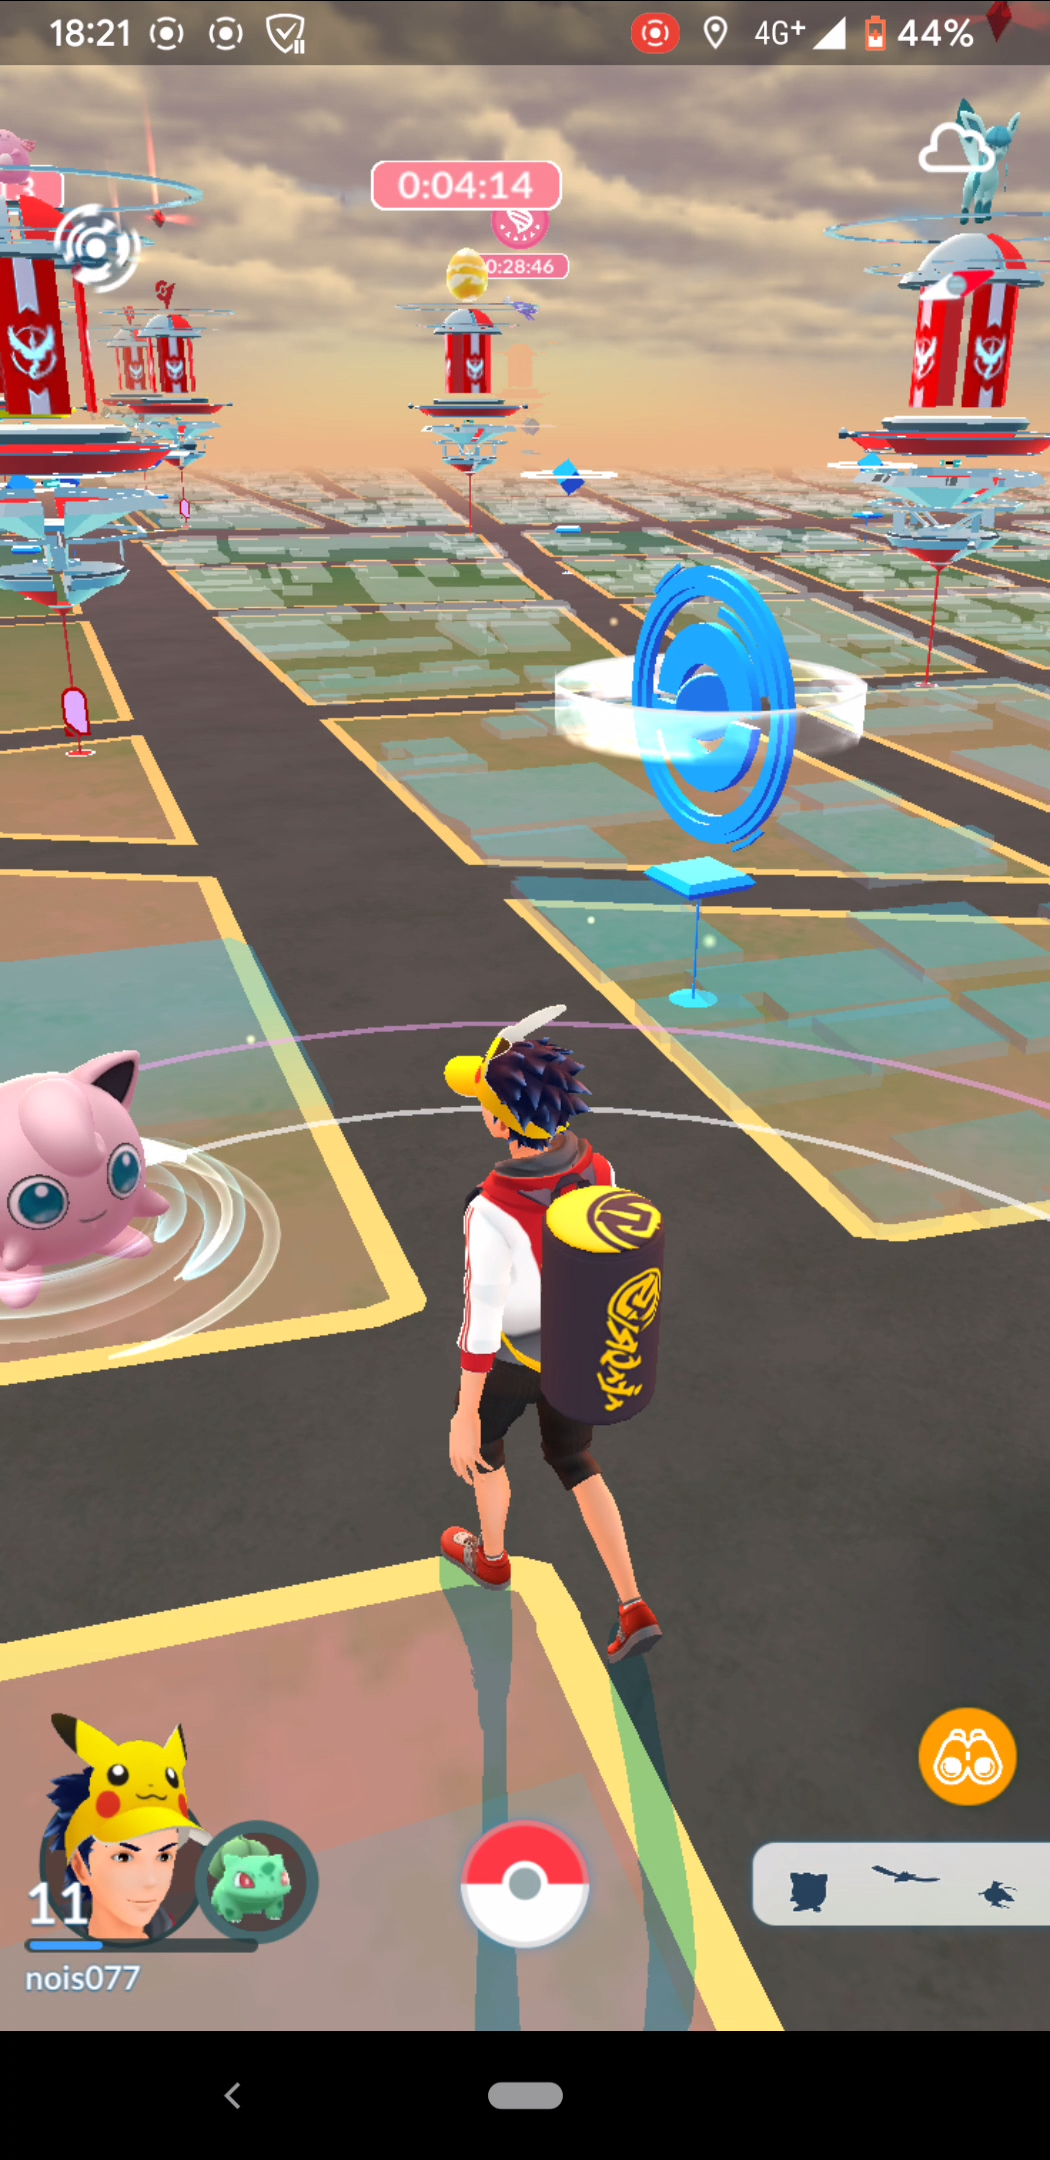pokestop: (626, 557, 801, 849)
